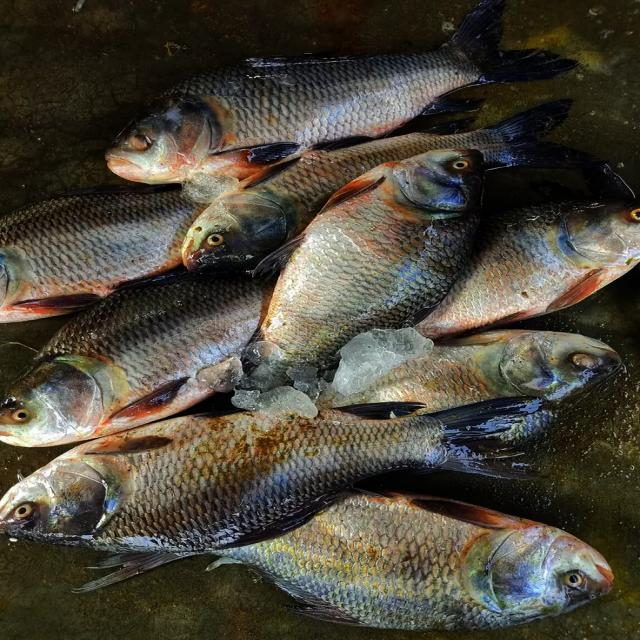Catla: (0, 395, 545, 551), (246, 146, 489, 385)
